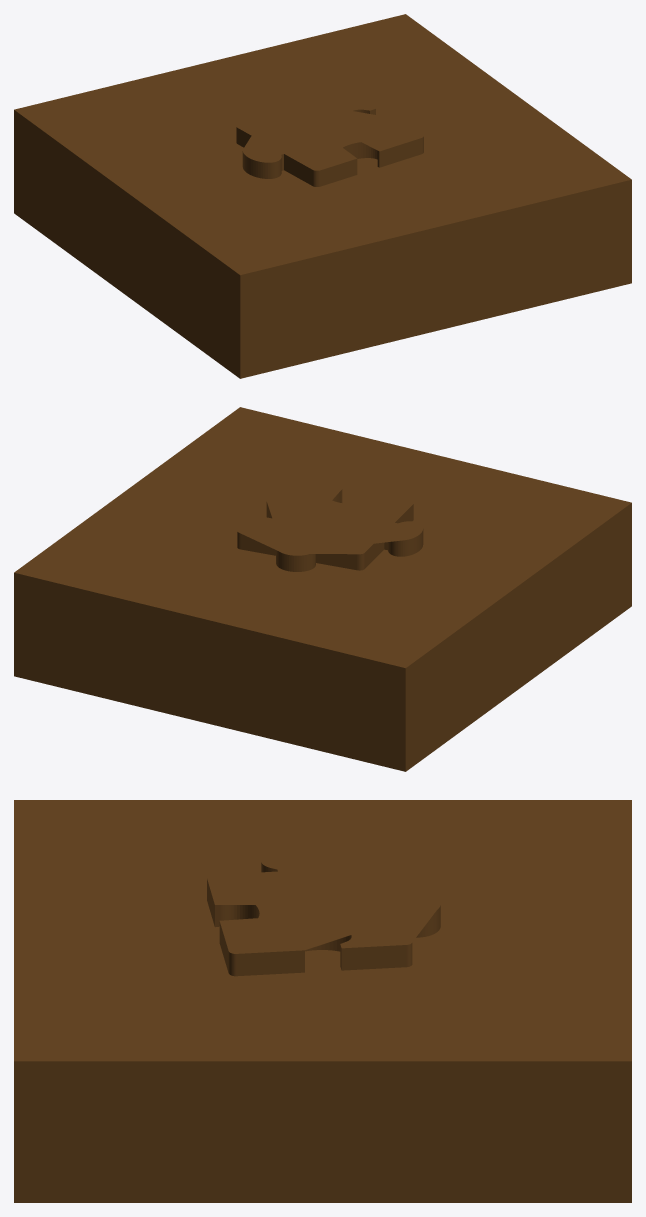
The model's file is pr1_cover.fbx.
3 renders of one model, top to bottom at view 1: azimuth 30°, elevation 25°; view 2: azimuth 150°, elevation 25°; view 3: azimuth 270°, elevation 25°, orthographic. The views are drawn at different scales.
Parts seen in each view (by area): view 1: Jigsaw; view 2: Jigsaw; view 3: Jigsaw.
Boxes of the visible parts, left/top/right/bottom form: Jigsaw: left=14, top=14, right=631, bottom=378; Jigsaw: left=14, top=407, right=631, bottom=771; Jigsaw: left=14, top=800, right=631, bottom=1202.
Bounding box in the file's own units: 13.15 × 3.85 × 13.15.
